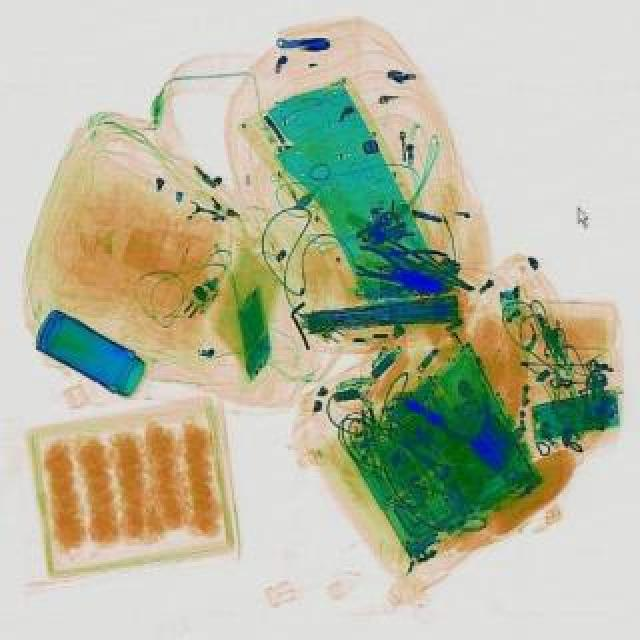wrench: (348, 240, 432, 294), (382, 238, 446, 274)
